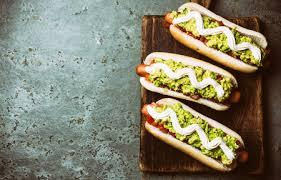Completos: (142, 96, 248, 166), (169, 3, 270, 64), (145, 53, 240, 104)
